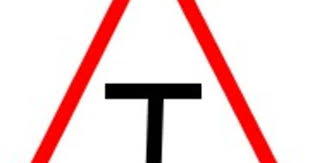Fork_road: (28, 1, 281, 163)
